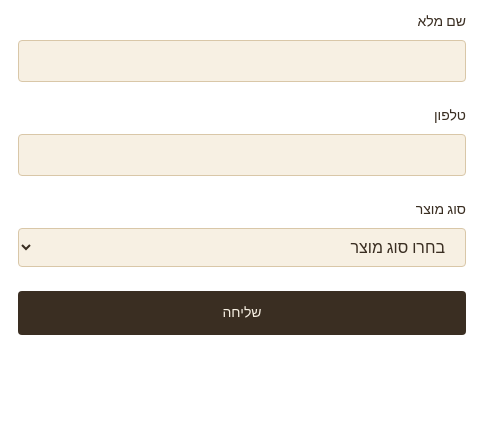
Test case: ContactForm › shows a validation error per required field and does not submit
Click the button "שליחה": (242, 313) [18,291,466,335]
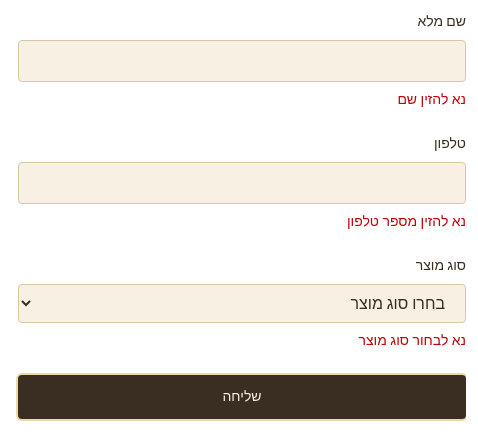
Expected: the number of messages is 3, [397,91,466,108]; [347,213,466,230]; [358,332,466,349]
